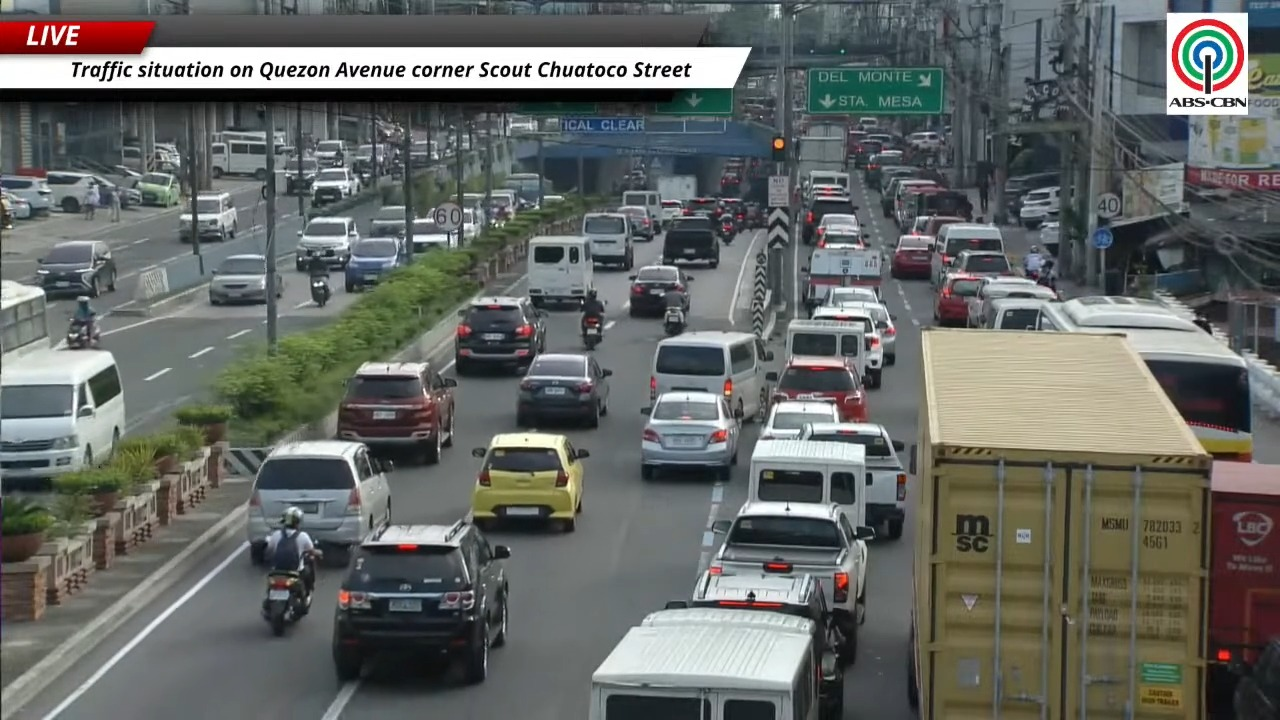bus: (1040, 296, 1252, 461), (0, 280, 52, 364), (210, 140, 266, 179), (503, 173, 553, 202), (210, 130, 266, 143)
car: (643, 572, 843, 719), (332, 520, 510, 683), (246, 440, 393, 564), (800, 423, 907, 539), (336, 362, 456, 463), (471, 433, 589, 531), (641, 391, 741, 481), (455, 297, 547, 374), (516, 353, 611, 427), (766, 356, 866, 421), (812, 302, 885, 388), (967, 276, 1057, 327), (36, 240, 117, 296), (838, 300, 896, 365), (344, 236, 408, 291), (295, 216, 359, 271), (628, 265, 690, 316), (759, 400, 839, 439), (208, 255, 271, 304), (178, 191, 237, 242), (802, 195, 855, 244), (934, 273, 981, 326), (881, 178, 936, 221), (45, 170, 98, 213), (0, 175, 52, 215), (311, 167, 359, 206), (406, 218, 457, 254), (890, 235, 932, 278), (949, 250, 1014, 276), (1019, 187, 1058, 229), (135, 173, 181, 207), (863, 150, 903, 187), (873, 165, 918, 194), (617, 206, 655, 240), (916, 215, 965, 240), (817, 224, 868, 248), (285, 158, 318, 195), (369, 205, 405, 236), (824, 287, 879, 306), (0, 192, 33, 222), (314, 140, 349, 167), (684, 197, 722, 219), (1038, 219, 1059, 257), (667, 215, 713, 231), (722, 197, 745, 229), (907, 131, 942, 150), (819, 213, 859, 229), (745, 202, 766, 228), (662, 199, 683, 224), (903, 216, 930, 235)
motorcycle: (262, 571, 309, 636), (66, 322, 98, 349), (582, 317, 602, 350), (310, 277, 330, 307), (663, 308, 684, 335), (718, 220, 736, 244)
truck: (907, 328, 1211, 719), (708, 500, 873, 664), (1205, 461, 1279, 717), (801, 244, 883, 313), (797, 122, 846, 177), (656, 175, 699, 202)
